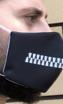with_mask: (1, 2, 63, 104)
